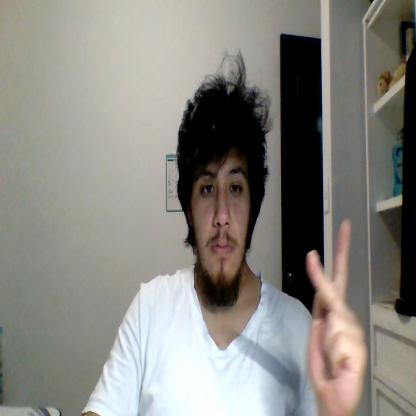P: (307, 217, 369, 415)
